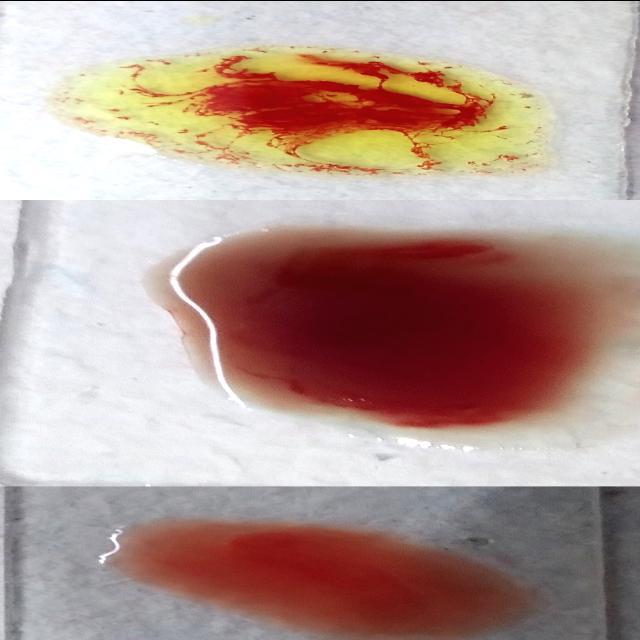B: (41, 48, 551, 178)
